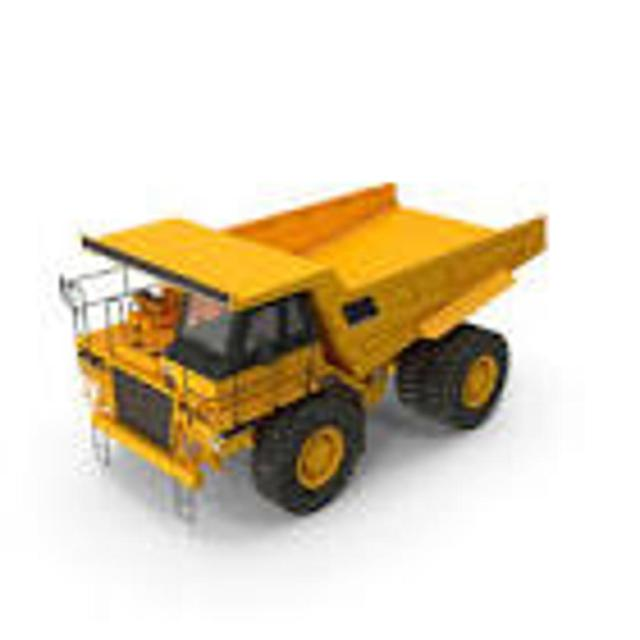dump_truck: (64, 172, 552, 553)
